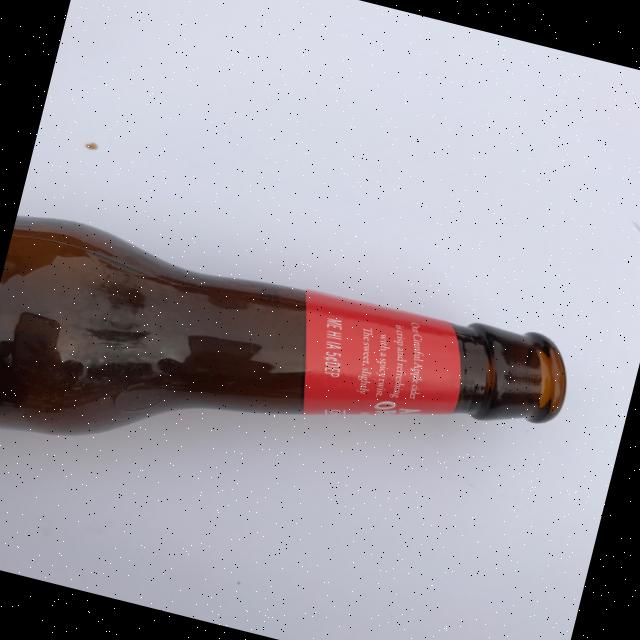glass: (0, 201, 579, 564)
